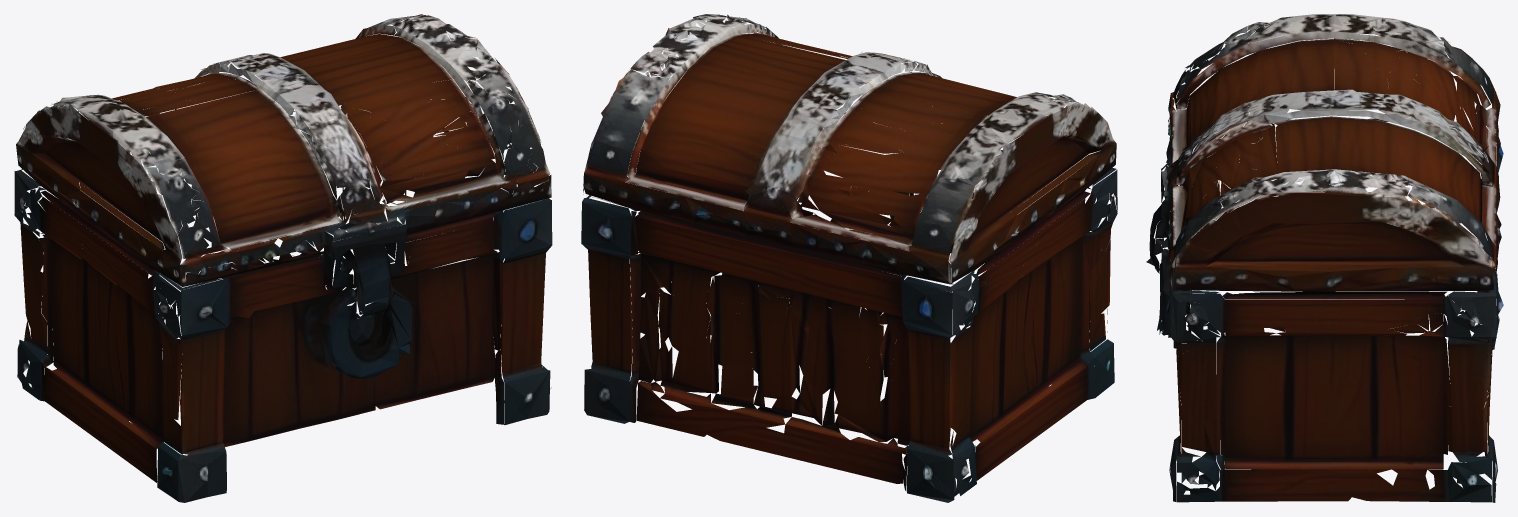
File: chest.glb
The picture shows the model from 3 angles, left to right: view 1: azimuth 30°, elevation 25°; view 2: azimuth 150°, elevation 25°; view 3: azimuth 270°, elevation 25°; orthographic projection. The views are drawn at different scales.
Visible parts, largest first — view 1: textured_mesh.obj; view 2: textured_mesh.obj; view 3: textured_mesh.obj.
Part boxes in pixels (<box>): textured_mesh.obj: <box>14,14,552,502</box>; textured_mesh.obj: <box>581,14,1117,502</box>; textured_mesh.obj: <box>1146,14,1503,502</box>.
Size of the model in its own units: 0.7879 by 0.6449 by 0.643.
1 material, 1 textured.
